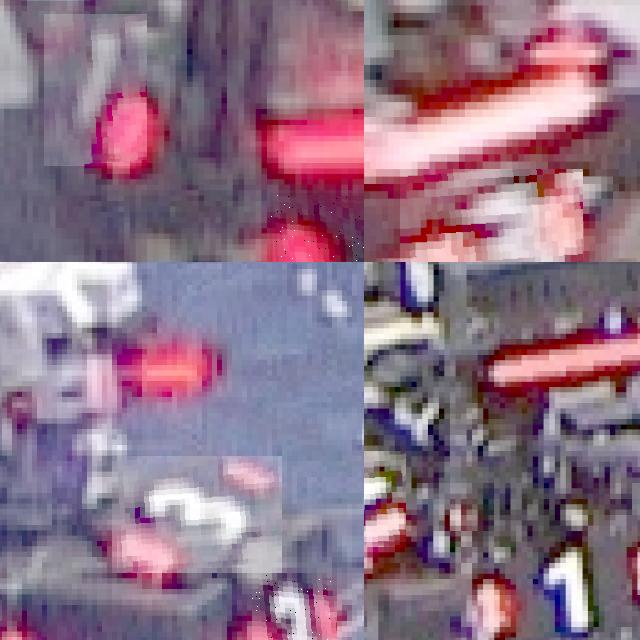R1: (44, 14, 147, 166), (472, 547, 640, 640), (269, 192, 364, 262), (364, 450, 406, 552)
R3: (112, 456, 282, 573), (399, 169, 583, 262), (252, 572, 337, 640)
